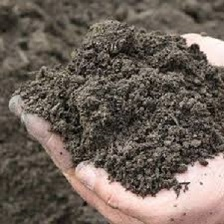loamy_soil: (33, 20, 210, 193)
